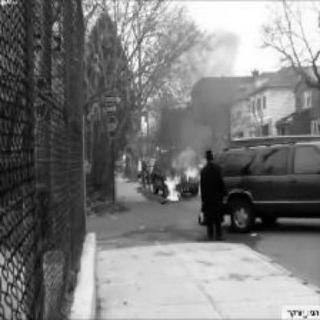Fire: (155, 144, 199, 202)
